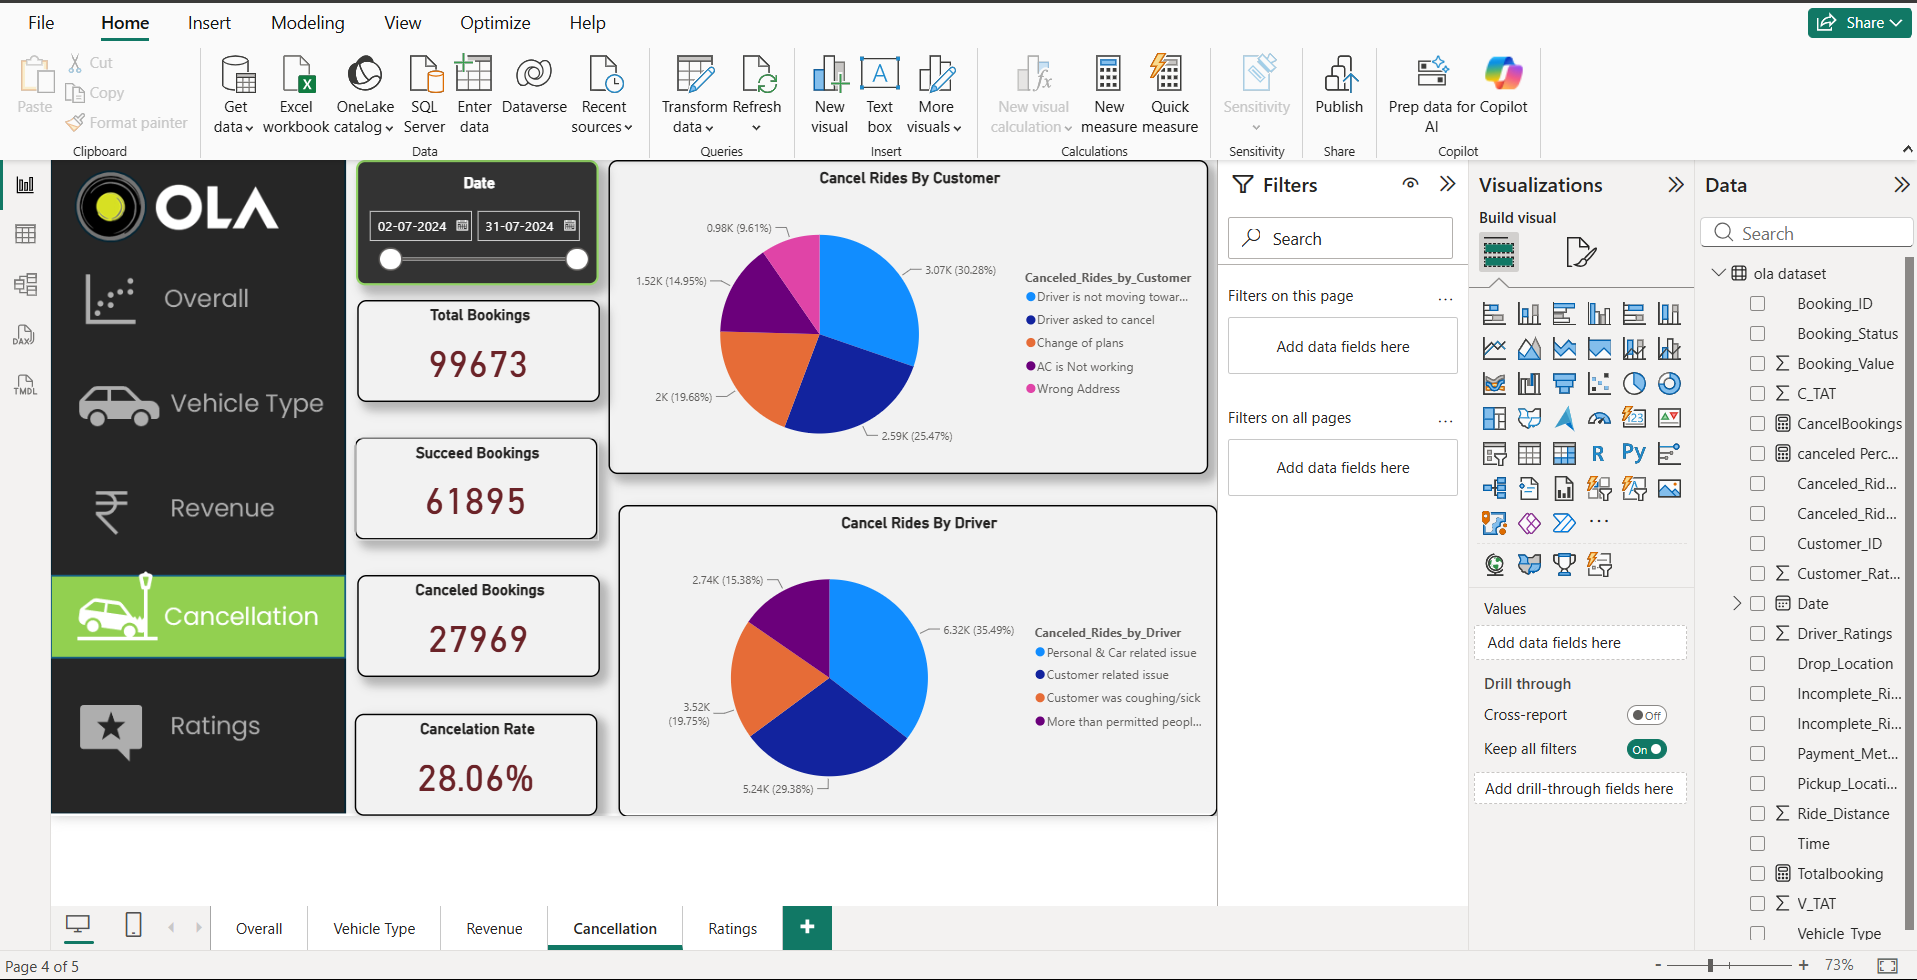

The dashboard page shown, as its layout file describes it:
{"tool":"powerbi","page":{"name":"Cancellation","canvas":[1280,720],"ordinal":3},"visuals":[{"type":"actionButton","box":[0,222,325.7,91.7],"z":0},{"type":"actionButton","box":[0,341.4,325.7,85.7],"z":1},{"type":"actionButton","box":[0,580.3,325.7,85.7],"z":2},{"type":"actionButton","box":[0,109.8,325.7,85.7],"z":3},{"type":"pieChart","title":"Cancel Rides By Customer","fields":{"Category":["ola dataset.Canceled_Rides_by_Customer"],"Y":["CountNonNull(ola dataset.Canceled_Rides_by_Customer)"]},"box":[612,0,658.7,345],"z":4},{"type":"pieChart","title":"Cancel Rides By Driver","fields":{"Category":["ola dataset.Canceled_Rides_by_Driver"],"Y":["CountNonNull(ola dataset.Canceled_Rides_by_Driver)"]},"box":[623,378.7,657.3,342],"z":5},{"type":"slicer","title":"Date","fields":{"Values":["ola dataset.Date"]},"box":[334.8,0,266.2,137.2],"z":6},{"type":"card","title":"Total Bookings","fields":{"Values":["CountNonNull(ola dataset.Booking_ID)"]},"box":[335.5,153,266.6,112.2],"z":7},{"type":"card","title":"Succeed Bookings","fields":{"Values":["CountNonNull(ola dataset.Booking_Status)"]},"box":[334.1,304.6,266.6,112.2],"z":8},{"type":"card","title":"Canceled Bookings","fields":{"Values":["CountNonNull(ola dataset.Booking_Status)"]},"box":[335.5,456.2,266.6,112.2],"z":9},{"type":"card","title":"Cancelation Rate","fields":{"Values":["ola dataset.canceled Percentage"]},"box":[334.1,607.8,266.6,112.2],"z":10}]}

Visuals, with their boxes on the page's 1280x720 design canvas (x1, y1, x2, y2). These are canvas units, not pixel positions in the 1917x980 screenshot, which may show the page scaled, cropped or inside an application window:
actionButton: x1=0 y1=222 x2=326 y2=314
actionButton: x1=0 y1=341 x2=326 y2=427
actionButton: x1=0 y1=580 x2=326 y2=666
actionButton: x1=0 y1=110 x2=326 y2=196
"Cancel Rides By Customer" pieChart: x1=612 y1=0 x2=1271 y2=345
"Cancel Rides By Driver" pieChart: x1=623 y1=379 x2=1280 y2=721
"Date" slicer: x1=335 y1=0 x2=601 y2=137
"Total Bookings" card: x1=336 y1=153 x2=602 y2=265
"Succeed Bookings" card: x1=334 y1=305 x2=601 y2=417
"Canceled Bookings" card: x1=336 y1=456 x2=602 y2=568
"Cancelation Rate" card: x1=334 y1=608 x2=601 y2=720
